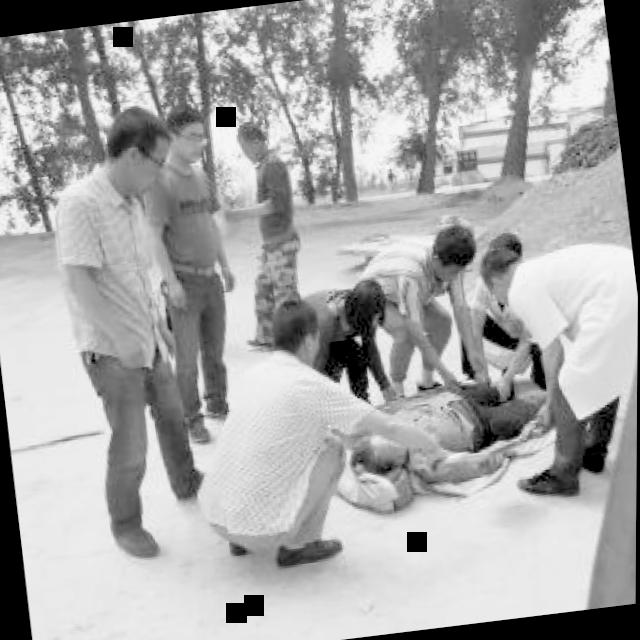Fall-Detected: (319, 350, 560, 523)
